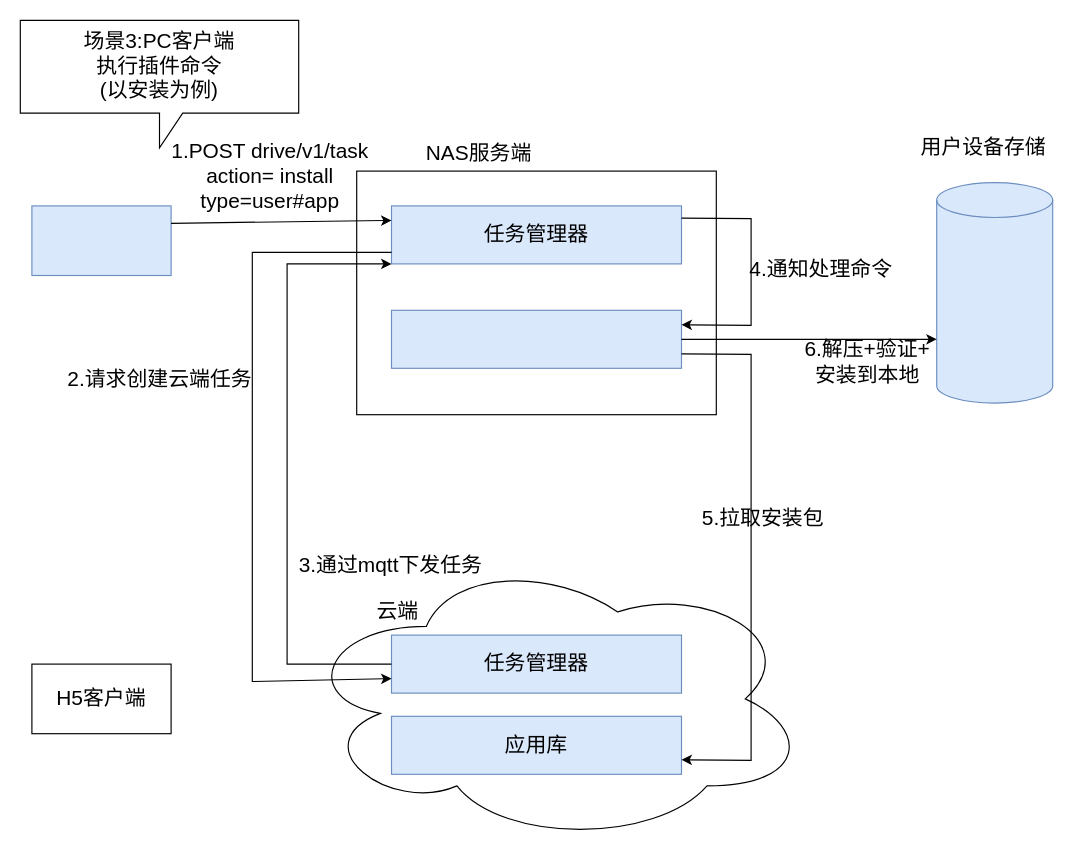
The diagram is 1073 pixels wide and 864 high, and some of its shapes have lost their labels. Each missing label, with the box of its shape:
PC客户端: (31, 205, 171, 276)
插件管理器: (390, 309, 682, 368)
